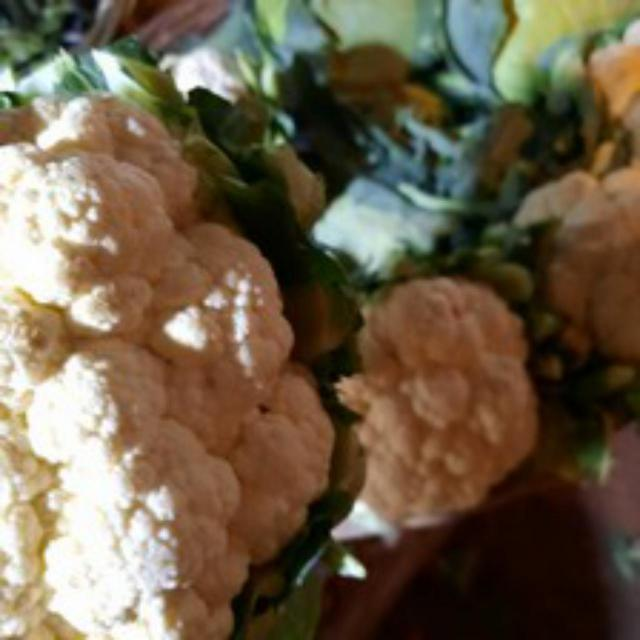cauliflower: (330, 270, 566, 533)
